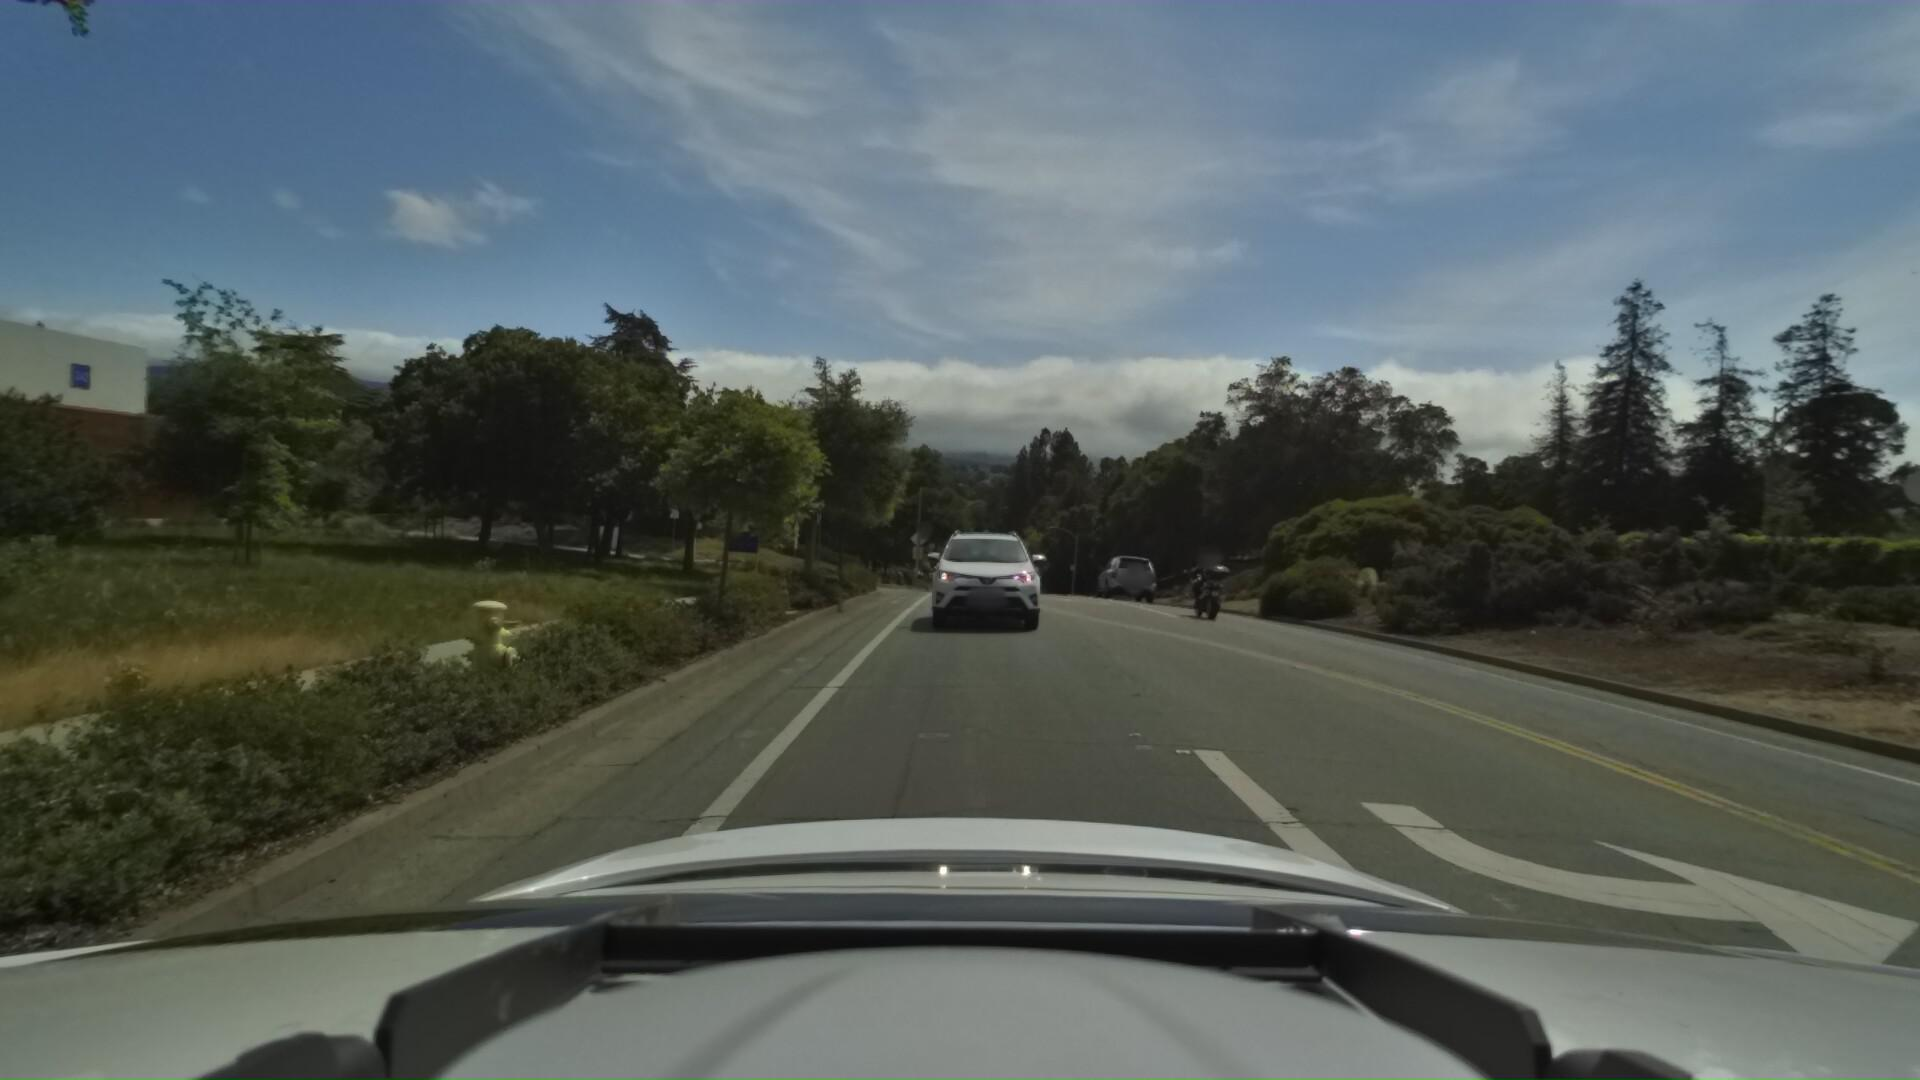car: (922, 514, 1058, 655), (1087, 549, 1160, 597)
motorcycle: (1164, 527, 1236, 620)
